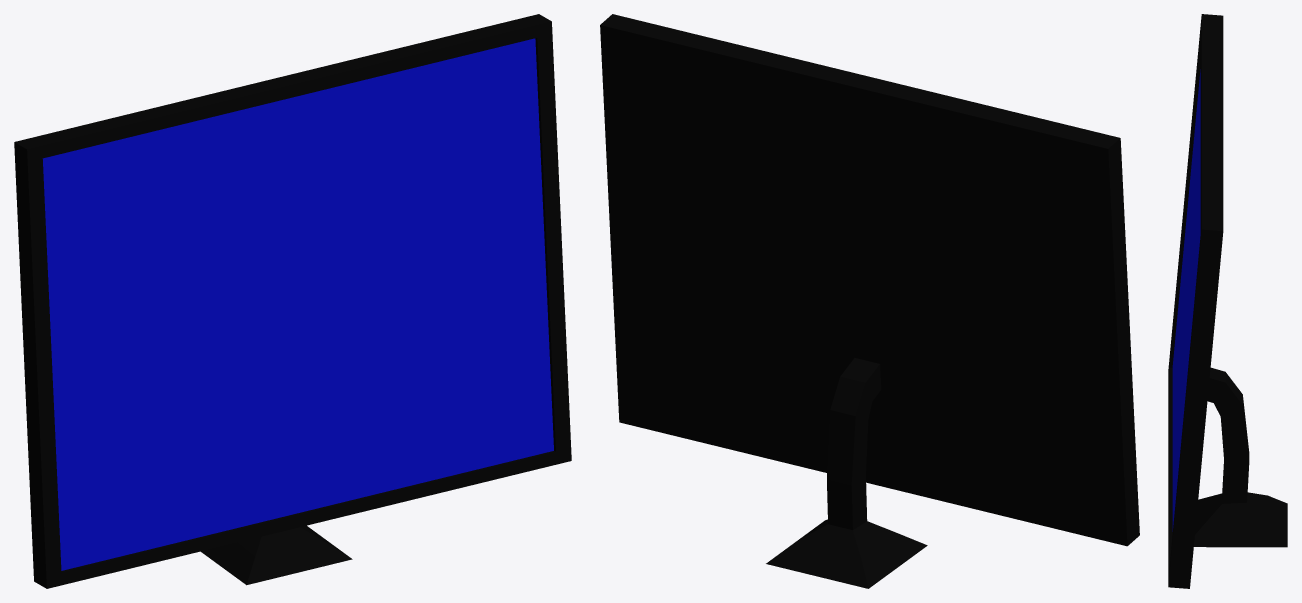
Rendered from monitor.fbx.
3 renders of one model, left to right at view 1: azimuth 30°, elevation 25°; view 2: azimuth 150°, elevation 25°; view 3: azimuth 270°, elevation 25°, orthographic. The views are drawn at different scales.
Visible parts, largest first — view 1: Cube; view 2: Cube; view 3: Cube.
Part boxes in pixels (bbox=[...]): Cube: bbox=[14, 14, 571, 588]; Cube: bbox=[600, 14, 1139, 588]; Cube: bbox=[1168, 14, 1287, 588].
Size of the model in its own units: 4 by 3.49 by 0.9374.
